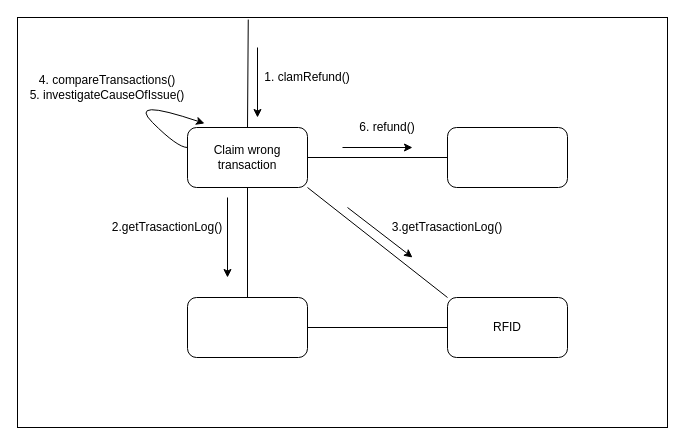
Some shapes in this 685 by 445 pixel diagram are drawn without their labels. The shapes that lost their labels are listed below. From the top down, each one's box as (x1, y1, x2, y2) in pixels, then its label:
(446, 126, 568, 188): User
(186, 296, 308, 358): Central system
